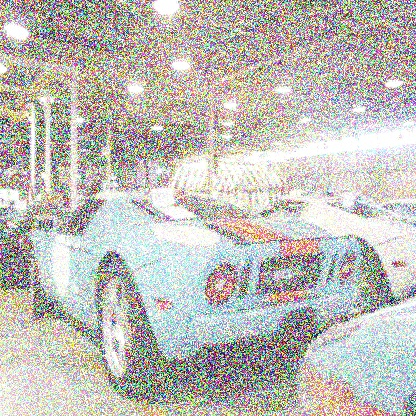Vehicle: (29, 190, 368, 398)
